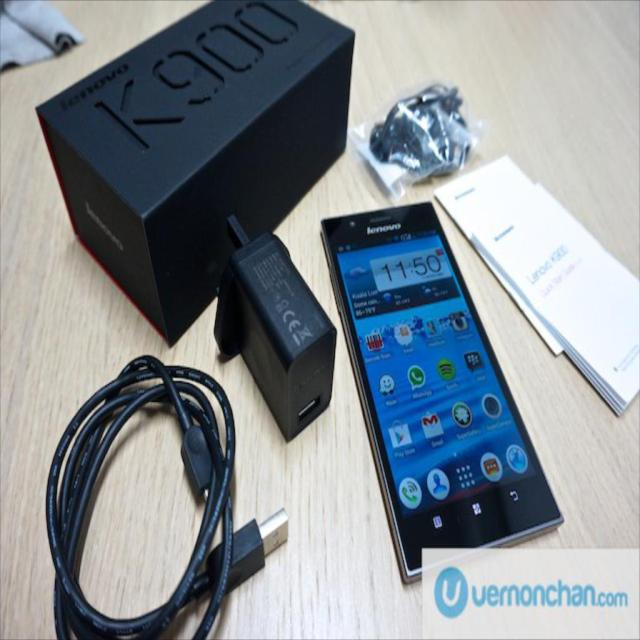Mobile-phone: (314, 187, 562, 569)
